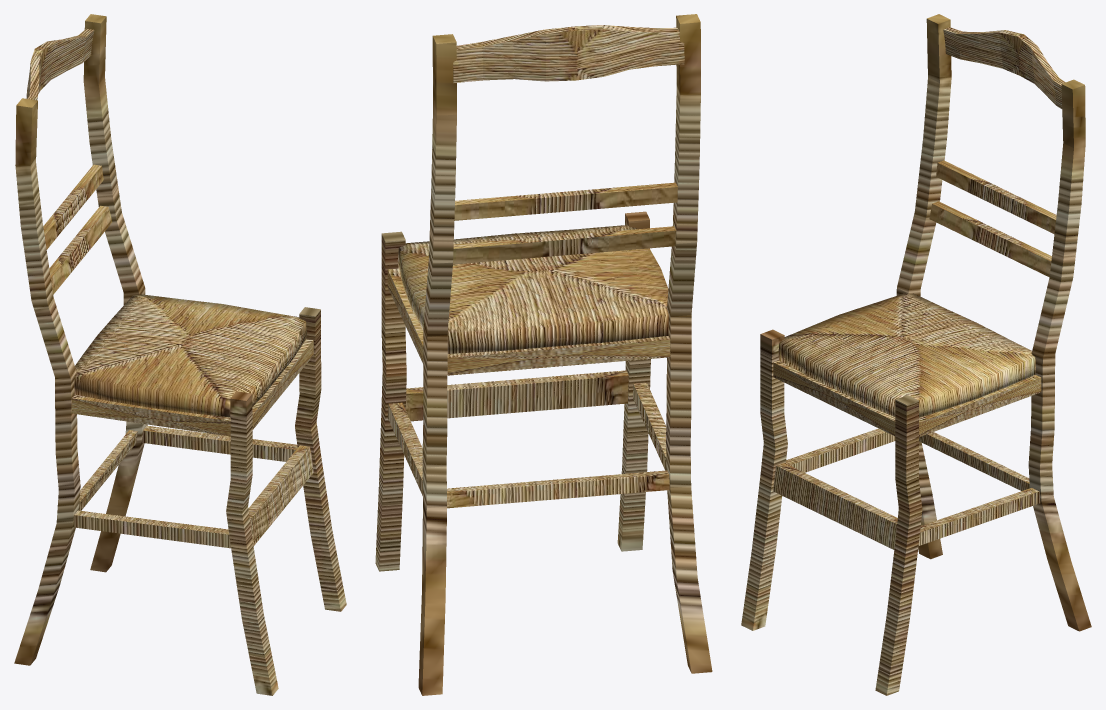
Rendered from Sedia.fbx.
3 views of the same model, side by side, from view 1: azimuth 30°, elevation 25°; view 2: azimuth 150°, elevation 25°; view 3: azimuth 270°, elevation 25° (orthographic). The views are drawn at different scales.
Parts seen in each view (by area): view 1: Struttura, Cuscino, Sottosedia; view 2: Struttura, Cuscino, Sottosedia; view 3: Struttura, Cuscino, Sottosedia.
Part boxes in pixels (<box>): Struttura: <box>14,14,346,695</box>; Cuscino: <box>74,294,306,417</box>; Sottosedia: <box>71,339,313,436</box>; Struttura: <box>375,14,712,695</box>; Cuscino: <box>397,225,668,353</box>; Sottosedia: <box>387,268,670,375</box>; Struttura: <box>741,14,1091,695</box>; Cuscino: <box>778,293,1035,417</box>; Sottosedia: <box>773,360,1041,436</box>.
Size of the model in its own units: 217 by 376 by 219.
